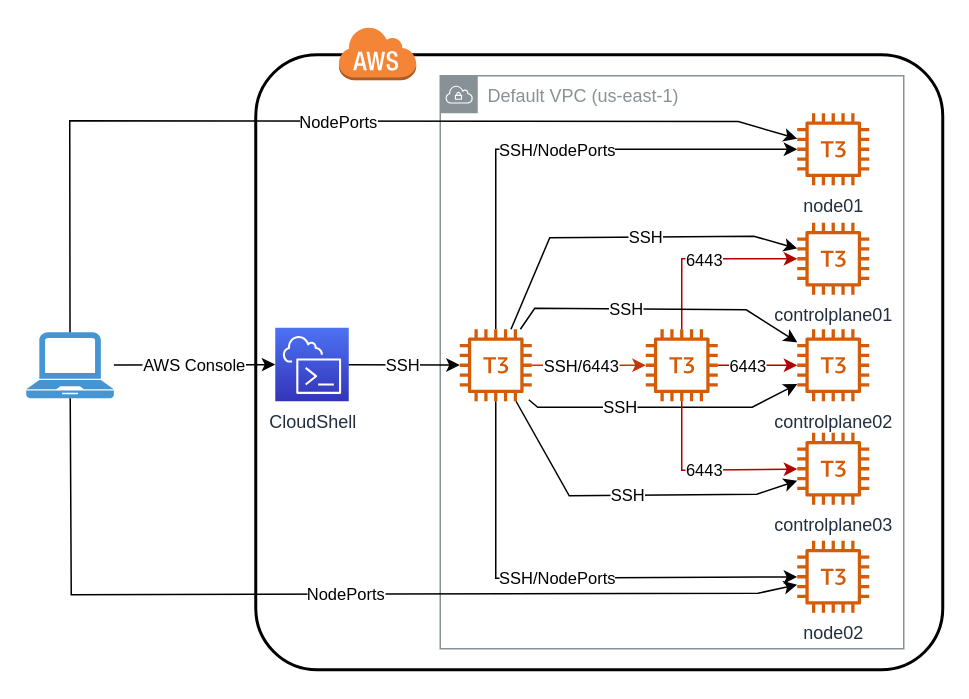
The diagram is 969 pixels wide and 699 high, and some of its shapes have lost their labels. Here are the shapes that lost their labels. From the top down, the centre of each, then its label:
At point (69, 365): "You".
At point (495, 364): "student-node".
At point (681, 364): "loadbalancer".
